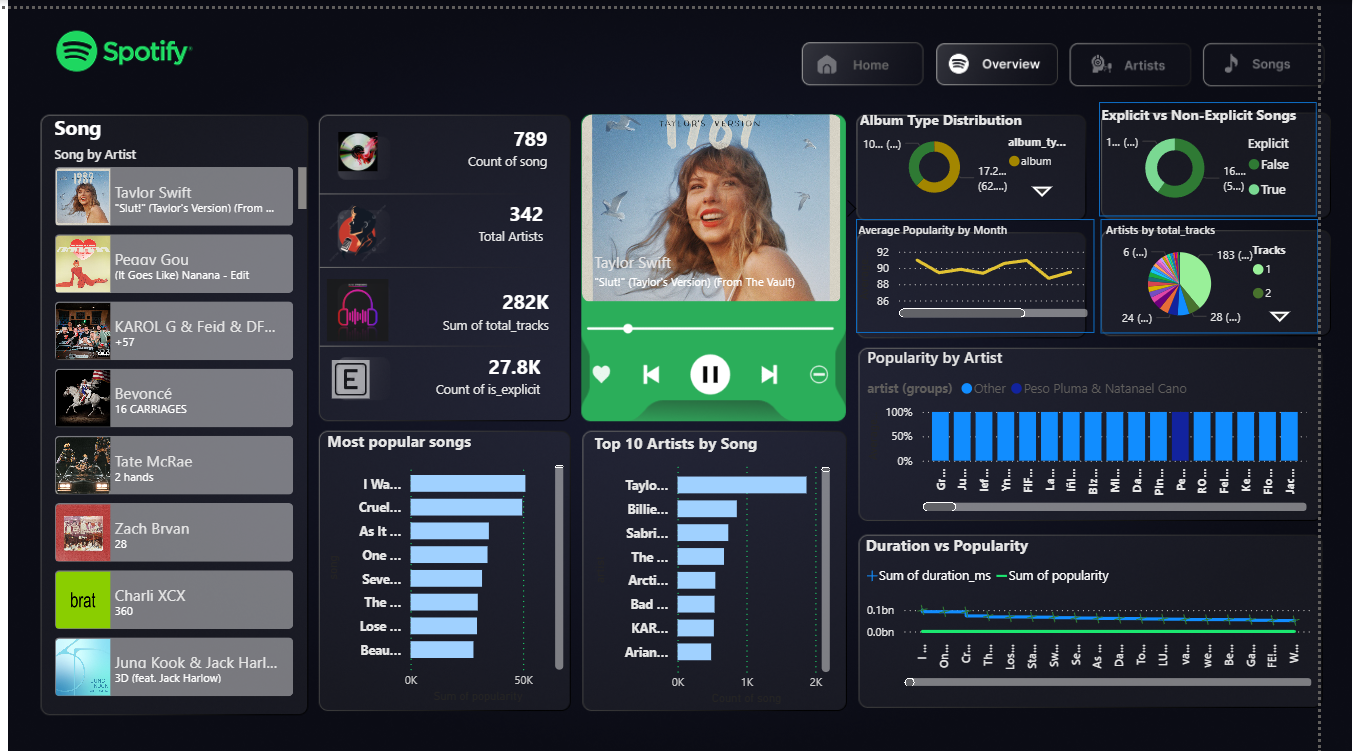

This screenshot's page, from the dashboard's own definition file:
{"tool":"powerbi","page":{"name":"Overview","canvas":[1280,720],"ordinal":1},"visuals":[{"type":"clusteredBarChart","title":"Most popular songs","fields":{"Category":["Top-50-world.song"],"Y":["Sum(Top-50-world.popularity)"]},"box":[318,433.1,234.7,263.5],"z":0,"group":"g2"},{"type":"clusteredBarChart","title":"Top 10 Artists by Song","fields":{"Category":["Top-50-world.artist"],"Y":["CountNonNull(Top-50-world.song)"]},"box":[583,437.6,234.7,263.5],"z":1000},{"type":"donutChart","title":"Album Type Distribution","fields":{"Category":["Top-50-world.album_type"],"Y":["CountNonNull(Top-50-world.song)"]},"box":[840.4,130.2,213.5,90.9],"z":2000,"group":"g5"},{"type":"donutChart","title":"Explicit vs Non-Explicit Songs","fields":{"Category":["Top-50-world.is_explicit"],"Y":["CountNonNull(Top-50-world.song)"]},"box":[1069,125.7,210.5,101.5],"z":3000,"group":"g6"},{"type":"hundredPercentStackedColumnChart","title":"Popularity by Artist","fields":{"Category":["Top-50-world.artist"],"Y":["Top-50-world.Average Popularity"],"Series":["Top-50-world.artist (groups)"]},"box":[851,360.4,428.5,160.5],"z":4000},{"type":"lineChart","title":"Duration vs Popularity","fields":{"Category":["Top-50-world.song"],"Y":["Sum(Top-50-world.duration_ms)","Sum(Top-50-world.popularity)"]},"box":[844.9,537.5,434.6,149.9],"z":5000,"group":"g9"},{"type":"lineChart","fields":{"Category":["Top-50-world.release_date.Variation.Date Hierarchy.Month"],"Y":["Top-50-world.Average Popularity"]},"box":[832.8,243.7,228.6,95.4],"z":6000,"group":"g7"},{"type":"pieChart","title":"Artists by  total_tracks","fields":{"Y":["Top-50-world.Total Artists"],"Category":["Top-50-world.total_tracks"]},"box":[1072.7,233,199.9,103],"z":7000,"group":"g8"},{"type":"cardVisual","fields":{"Data":["Count(Top-50-world.song)"]},"box":[425.5,118.1,142.3,86.3],"z":8000,"group":"g3"},{"type":"cardVisual","fields":{"Data":["Top-50-world.Total Artists"]},"box":[289.2,175.6,280.1,127.2],"z":9000},{"type":"cardVisual","fields":{"Data":["Sum(Top-50-world.total_tracks)"]},"box":[363.5,271,205.9,92.4],"z":10000,"group":"g3"},{"type":"cardVisual","fields":{"Data":["CountNonNull(Top-50-world.is_explicit)"]},"box":[324.1,334.7,237.7,87.8],"z":11000,"group":"g1"},{"type":"image","box":[266.5,149.9,183.2,37.9],"z":12000},{"type":"image","box":[277.1,209,165,60.6],"z":13000},{"type":"image","box":[324.1,286.2,68.1,59.1],"z":14000,"group":"g1"},{"type":"image","box":[324.1,363.4,54.5,36.3],"z":15000,"group":"g1"},{"type":"advancedSlicerVisual","title":"Song","fields":{"Values":["Top-50-world.song"],"Label":["Min(Top-50-world.artist)"]},"box":[48.5,140.8,228.6,546.6],"z":16000},{"type":"advancedSlicerVisual","title":"Song","fields":{"Values":["Top-50-world.song"],"Label":["Min(Top-50-world.artist)"]},"box":[554.2,124.1,298.7,190.5],"z":17000,"group":"g4"},{"type":"image","box":[528.5,216.5,345.2,265],"z":18000},{"type":"shape","box":[315,128.7,252.9,295.3],"z":19000,"group":"g3"},{"type":"actionButton","box":[643.5,43.9,116.6,39.4],"z":20000},{"type":"actionButton","box":[919.1,43.9,115.1,39.4],"z":21000},{"type":"actionButton","box":[784.4,42.4,113.6,39.4],"z":22000},{"type":"actionButton","box":[1165,83.3,115,40],"z":23000},{"type":"actionButton","box":[985.7,42.9,115.7,40],"z":24000},{"type":"shape","box":[554.1,124,275.6,299.8],"z":25000,"group":"g4"},{"type":"group","id":"g1","title":"Group 1","box":[324.1,286.2,237.7,136.3],"z":25001,"group":"g3"},{"type":"shape","box":[307.4,424,249.8,290.7],"z":25002,"group":"g2"},{"type":"shape","box":[569.3,428.5,249.8,290.7],"z":25003},{"type":"group","id":"g2","title":"Group 2","box":[307.4,424,249.8,290.7],"z":25004},{"type":"group","id":"g3","title":"Group 3","box":[315,118.1,254.4,305.9],"z":25005},{"type":"group","id":"g4","title":"Group 4","box":[554.1,124,298.9,299.8],"z":25006},{"type":"shape","box":[838.9,125.7,212,92.4],"z":25007,"group":"g5"},{"type":"group","id":"g5","title":"Group 5","box":[838.9,125.7,215,95.4],"z":25008},{"type":"shape","box":[1072,122.7,207.4,109],"z":25009,"group":"g6"},{"type":"shape","box":[835.8,239.2,227.1,109],"z":25010,"group":"g7"},{"type":"group","id":"g6","title":"Group 6","box":[1069,122.7,210.5,109],"z":25011},{"type":"shape","box":[1072.7,230,207.4,109],"z":25012,"group":"g8"},{"type":"group","id":"g7","title":"Group 7","box":[832.8,239.2,230.2,109],"z":25013},{"type":"group","id":"g8","title":"Group 8","box":[1072.7,230,206.7,109.2],"z":25014},{"type":"shape","box":[840.4,354.3,439.1,166.6],"z":25015},{"type":"shape","box":[840.4,534.5,439.1,166.6],"z":25016,"group":"g9"},{"type":"group","id":"g9","title":"Group 9","box":[840.4,534.5,439.1,166.6],"z":25017}]}

Visuals, with their boxes in screenshot pixels (x1, y1, x2, y2), scaled from the page's 1280x720 canvas onto the 1353x751 screenshot:
"Most popular songs" clusteredBarChart: [336,452,584,727]
"Top 10 Artists by Song" clusteredBarChart: [616,456,864,731]
"Album Type Distribution" donutChart: [888,136,1114,231]
"Explicit vs Non-Explicit Songs" donutChart: [1130,131,1352,237]
"Popularity by Artist" hundredPercentStackedColumnChart: [900,376,1352,543]
"Duration vs Popularity" lineChart: [893,561,1352,717]
lineChart - Top-50-world.release_date.Variation.Date Hierarchy.Month x Top-50-world.Average Popularity: [880,254,1122,354]
"Artists by  total_tracks" pieChart: [1134,243,1345,350]
cardVisual - Count(Top-50-world.song): [450,123,600,213]
cardVisual - Top-50-world.Total Artists: [306,183,602,316]
cardVisual - Sum(Top-50-world.total_tracks): [384,283,602,379]
cardVisual - CountNonNull(Top-50-world.is_explicit): [343,349,594,441]
image: [282,156,475,196]
image: [293,218,467,281]
image: [343,299,415,360]
image: [343,379,400,417]
"Song" advancedSlicerVisual: [51,147,293,717]
"Song" advancedSlicerVisual: [586,129,902,328]
image: [559,226,924,502]
shape: [333,134,600,442]
actionButton: [680,46,803,87]
actionButton: [972,46,1093,87]
actionButton: [829,44,949,85]
actionButton: [1231,87,1352,129]
actionButton: [1042,45,1164,86]
shape: [586,129,877,442]
"Group 1" group: [343,299,594,441]
shape: [325,442,589,745]
shape: [602,447,866,750]
"Group 2" group: [325,442,589,745]
"Group 3" group: [333,123,602,442]
"Group 4" group: [586,129,902,442]
shape: [887,131,1111,227]
"Group 5" group: [887,131,1114,231]
shape: [1133,128,1352,242]
shape: [883,249,1124,363]
"Group 6" group: [1130,128,1352,242]
shape: [1134,240,1352,354]
"Group 7" group: [880,249,1124,363]
"Group 8" group: [1134,240,1352,354]
shape: [888,370,1352,543]
shape: [888,558,1352,731]
"Group 9" group: [888,558,1352,731]
